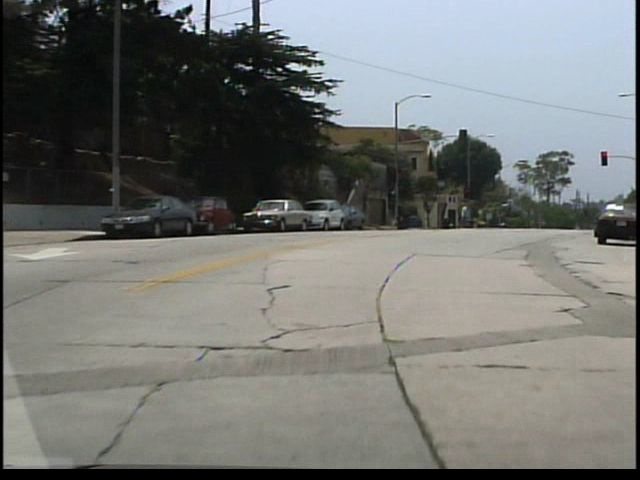person: (463, 204, 473, 230)
